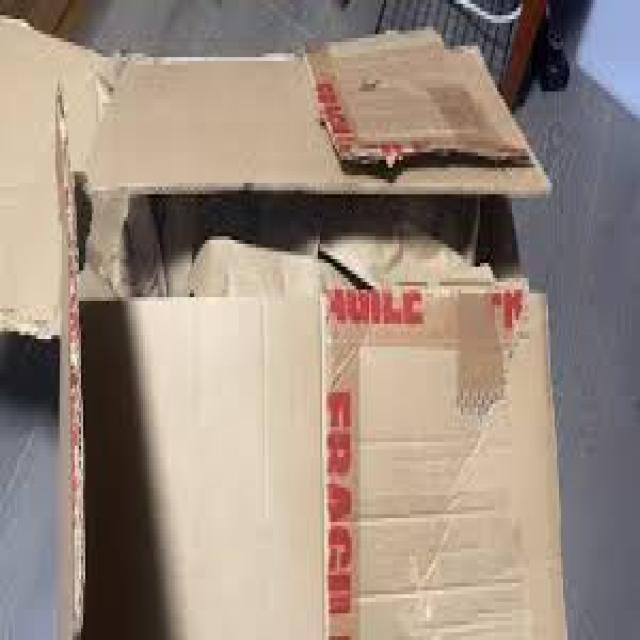box: (1, 9, 566, 640)
crushed: (347, 421, 530, 640)
tear: (34, 121, 558, 369)
